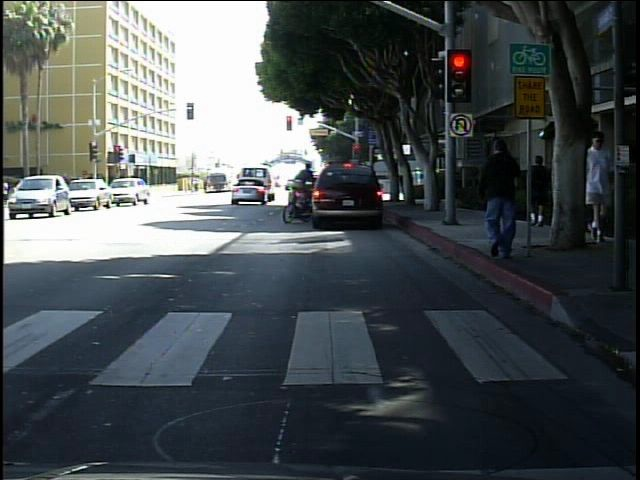person: (475, 130, 526, 268), (269, 153, 331, 228), (582, 132, 618, 245), (532, 151, 553, 229)
